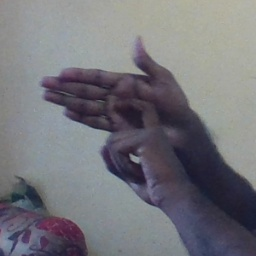R: (37, 31, 193, 184)
